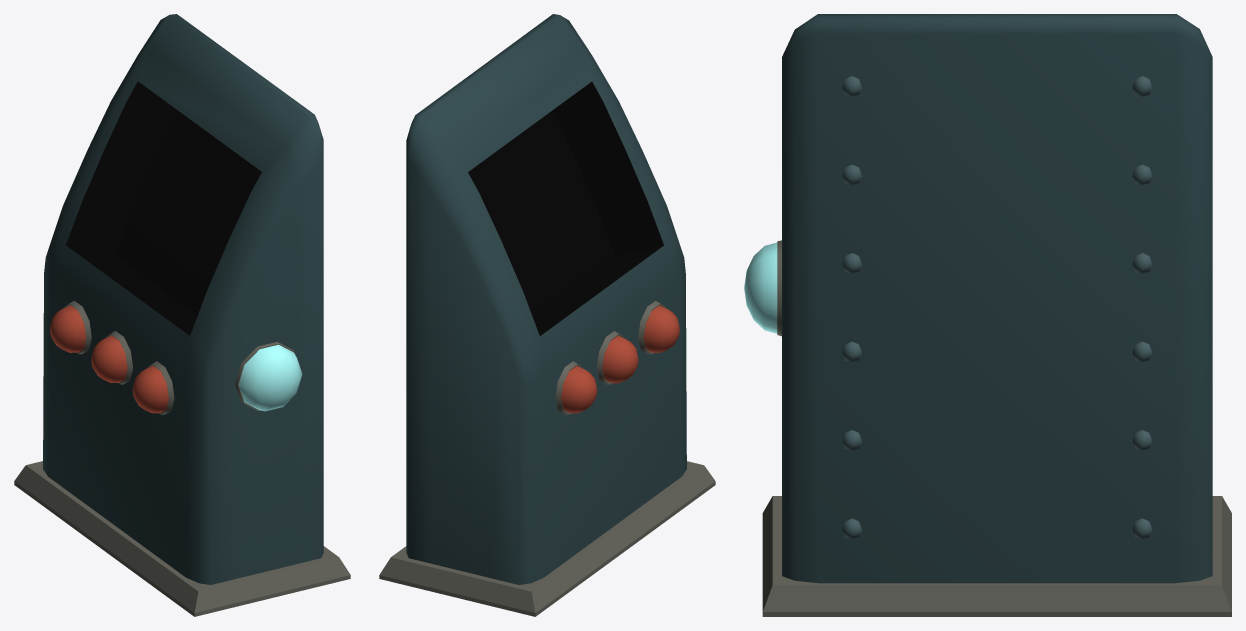
File: OT_079_casino_slot_machine.glb
3 renders of one model, left to right at view 1: azimuth 30°, elevation 25°; view 2: azimuth 150°, elevation 25°; view 3: azimuth 270°, elevation 25°, orthographic. The views are drawn at different scales.
Visible parts, largest first — view 1: slot_machine, lights_red, light_blue; view 2: slot_machine, lights_red; view 3: slot_machine, screws, light_blue.
Boxes of the visible parts, x1,y1,x2,y2 form: slot_machine: [14, 14, 350, 616]; lights_red: [50, 300, 174, 414]; light_blue: [235, 342, 302, 411]; slot_machine: [379, 14, 715, 616]; lights_red: [555, 301, 679, 414]; slot_machine: [762, 14, 1231, 616]; screws: [842, 76, 1152, 538]; light_blue: [744, 240, 781, 336].
Size of the model in its own units: 0.7985 by 2.08 by 1.56.
